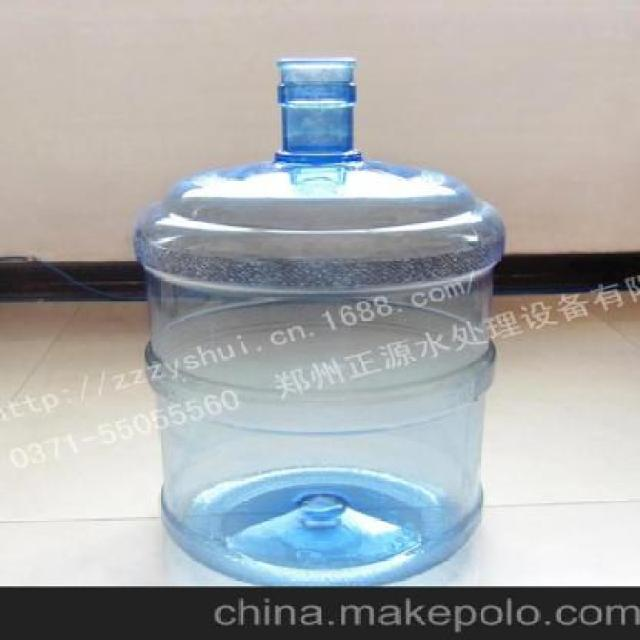coolerbottle: (131, 54, 515, 587)
